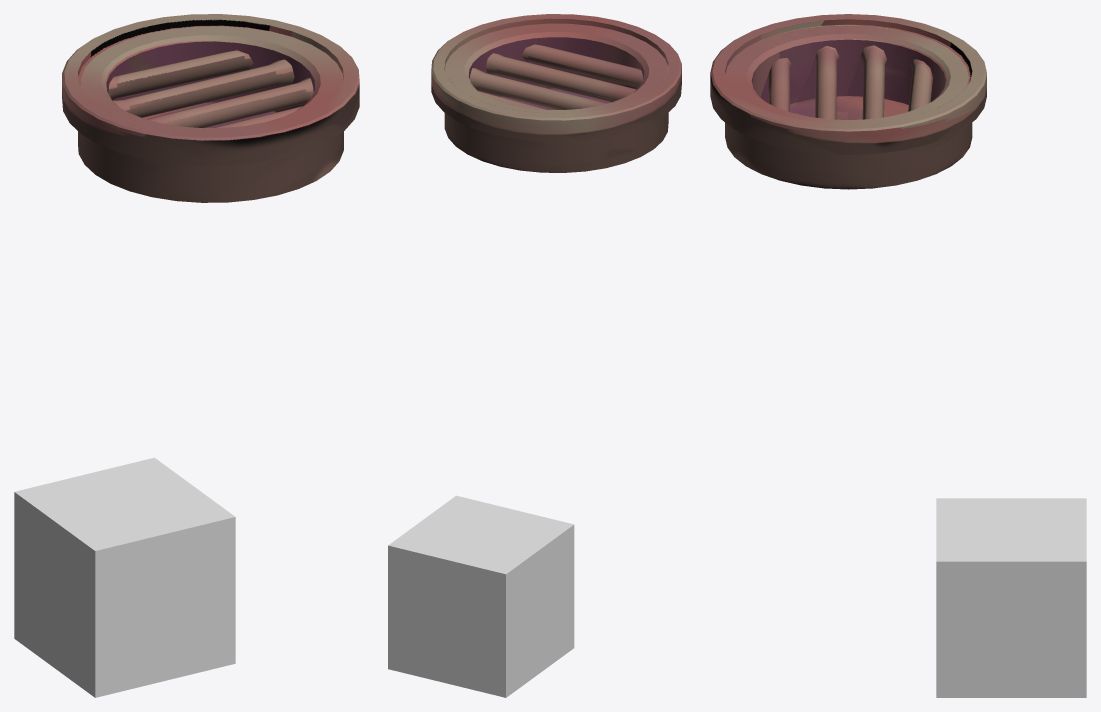
Rendered from home-floor005.fbx.
3 renders of one model, left to right at view 1: azimuth 30°, elevation 25°; view 2: azimuth 150°, elevation 25°; view 3: azimuth 270°, elevation 25°, orthographic. The views are drawn at different scales.
Visible parts, largest first — view 1: Cylinder.002, home-floor005; view 2: Cylinder.002, home-floor005; view 3: Cylinder.002, home-floor005.
Boxes of the visible parts, x1,y1,x2,y2 form: Cylinder.002: (62, 14, 359, 202); home-floor005: (14, 457, 235, 697); Cylinder.002: (431, 14, 681, 172); home-floor005: (388, 495, 574, 697); Cylinder.002: (710, 14, 986, 189); home-floor005: (936, 498, 1086, 697).
Size of the model in its own units: 274 by 648 by 372.
